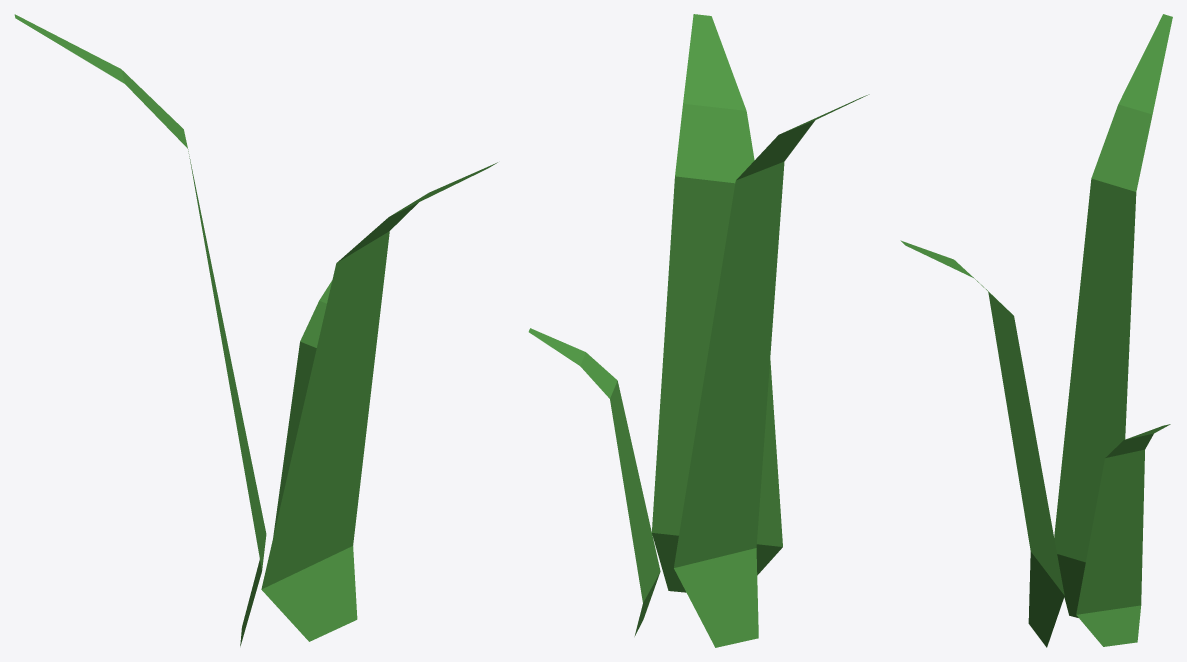
The model's file is grass.fbx.
The picture shows the model from 3 angles, left to right: view 1: azimuth 30°, elevation 25°; view 2: azimuth 150°, elevation 25°; view 3: azimuth 270°, elevation 25°; orthographic projection. The views are drawn at different scales.
Visible parts, largest first — view 1: Grass; view 2: Grass; view 3: Grass.
Boxes of the visible parts, <box> form: Grass: <box>14,14,497,646</box>; Grass: <box>528,14,869,647</box>; Grass: <box>900,14,1172,647</box>.
Size of the model in its own units: 64.31 by 113 by 52.39.
